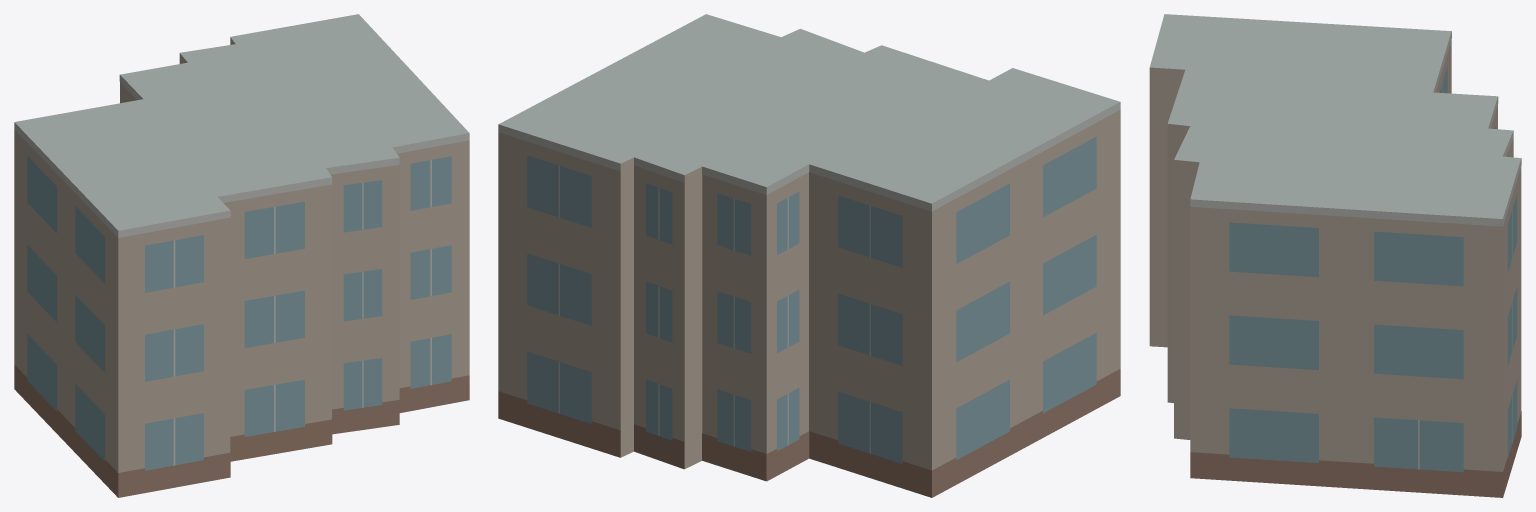
The model's file is survey-upis-32674277.glb.
The picture shows the model from 3 angles, left to right: view 1: azimuth 30°, elevation 25°; view 2: azimuth 150°, elevation 25°; view 3: azimuth 270°, elevation 25°; orthographic projection. The views are drawn at different scales.
Visible parts, largest first — view 1: survey-upis-32674277.tmp; view 2: survey-upis-32674277.tmp; view 3: survey-upis-32674277.tmp.
Boxes of the visible parts, left/top/right/bottom form: survey-upis-32674277.tmp: left=14, top=14, right=469, bottom=497; survey-upis-32674277.tmp: left=498, top=14, right=1120, bottom=497; survey-upis-32674277.tmp: left=1149, top=14, right=1521, bottom=497.
Bounding box in the file's own units: 14.45 × 9.15 × 11.07.
